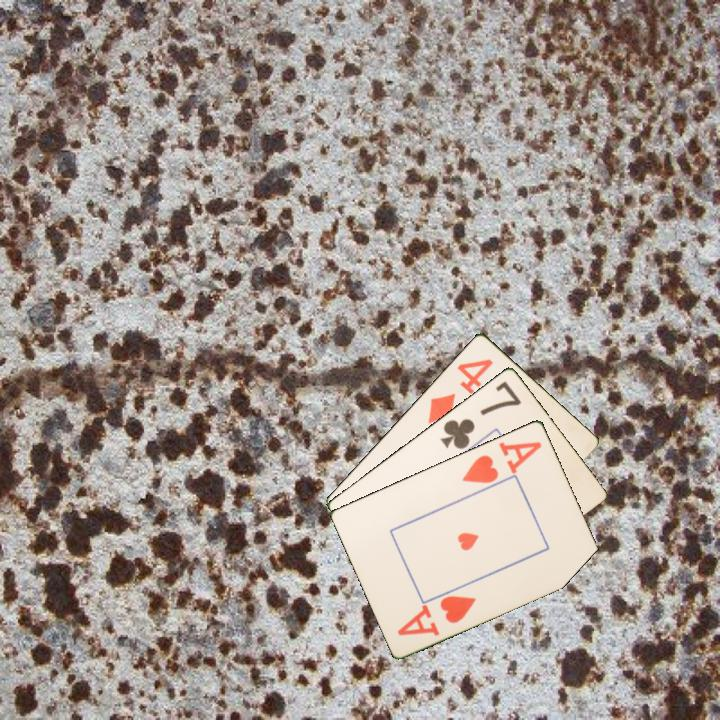4d: (424, 355, 496, 426)
7c: (437, 377, 524, 452)
Ah: (458, 438, 545, 486), (394, 591, 479, 638)
